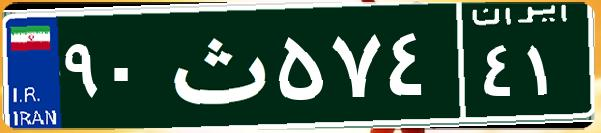0: (110, 28, 158, 105)
1: (525, 38, 570, 115)
4: (385, 28, 445, 110), (475, 38, 525, 113)
5: (273, 28, 330, 110)
7: (330, 28, 385, 110)
9: (57, 26, 110, 107)
ث: (158, 15, 273, 115)
